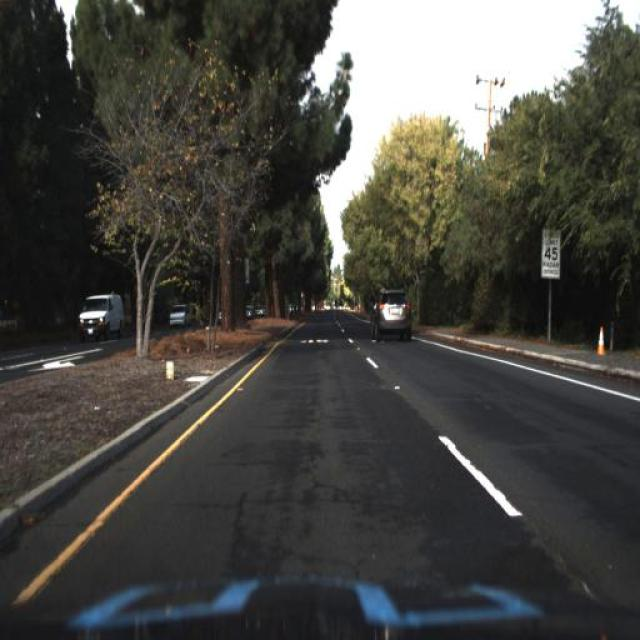car: (77, 291, 127, 340), (371, 290, 413, 341), (162, 294, 189, 337), (167, 298, 196, 332)
